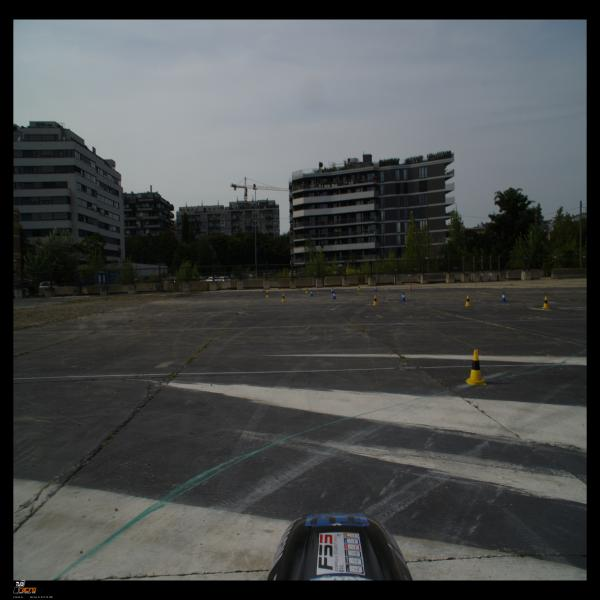blue_cone: (500, 292, 507, 302), (401, 292, 406, 301), (332, 292, 336, 300), (310, 290, 314, 296), (331, 287, 334, 293), (374, 286, 377, 292)
orange_cone: (409, 284, 412, 290), (410, 282, 412, 288)
yellow_cone: (465, 350, 486, 386), (542, 296, 550, 309), (464, 295, 471, 307), (372, 295, 378, 305), (281, 294, 286, 302), (266, 291, 270, 298), (305, 287, 309, 294), (358, 284, 360, 290)
